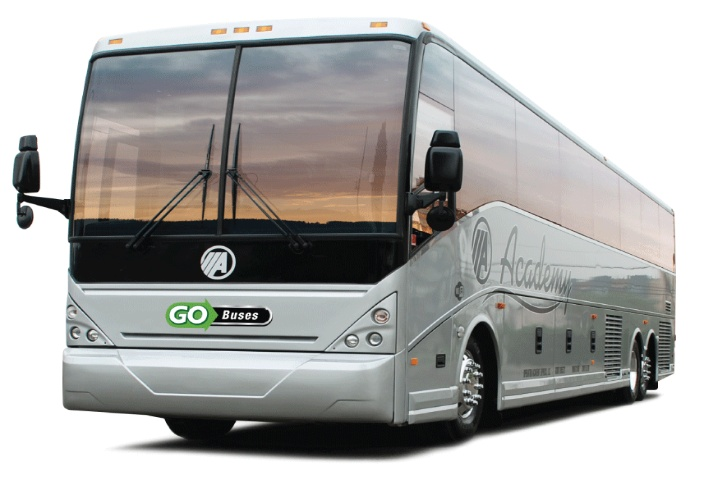bus: (6, 14, 687, 449)
